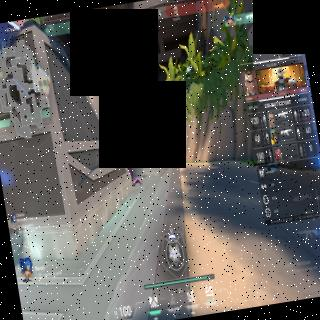ENEMY-BODY: (126, 156, 136, 188)
ENEMY-HEAD: (169, 228, 175, 235), (127, 158, 130, 163)
